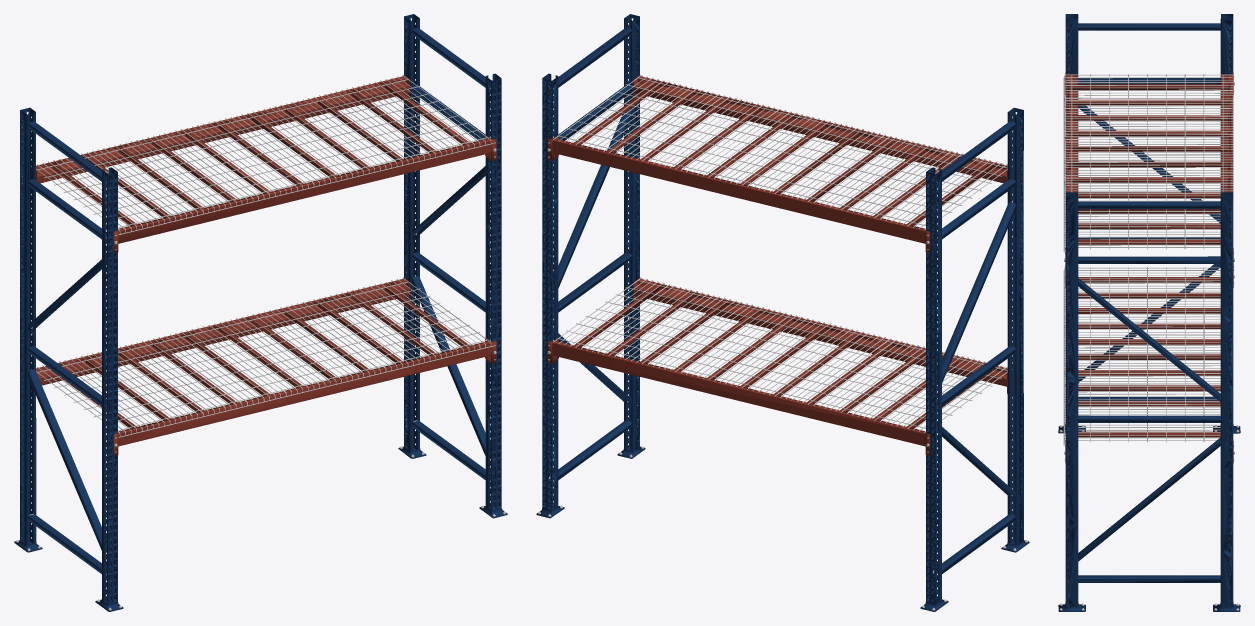
Rendered from rack_h3m_s02.glb.
3 views of the same model, side by side, from view 1: azimuth 30°, elevation 25°; view 2: azimuth 150°, elevation 25°; view 3: azimuth 270°, elevation 25° (orthographic). The views are drawn at different scales.
Visible parts, largest first — view 1: sm_rack_h3m_s02_mesh_00; view 2: sm_rack_h3m_s02_mesh_00; view 3: sm_rack_h3m_s02_mesh_00.
Boxes of the visible parts, x1,y1,x2,y2 form: sm_rack_h3m_s02_mesh_00: (14, 14, 507, 611); sm_rack_h3m_s02_mesh_00: (536, 14, 1029, 611); sm_rack_h3m_s02_mesh_00: (1058, 14, 1240, 611).
Bounding box in the file's own units: 2.88 × 3 × 1.2.
